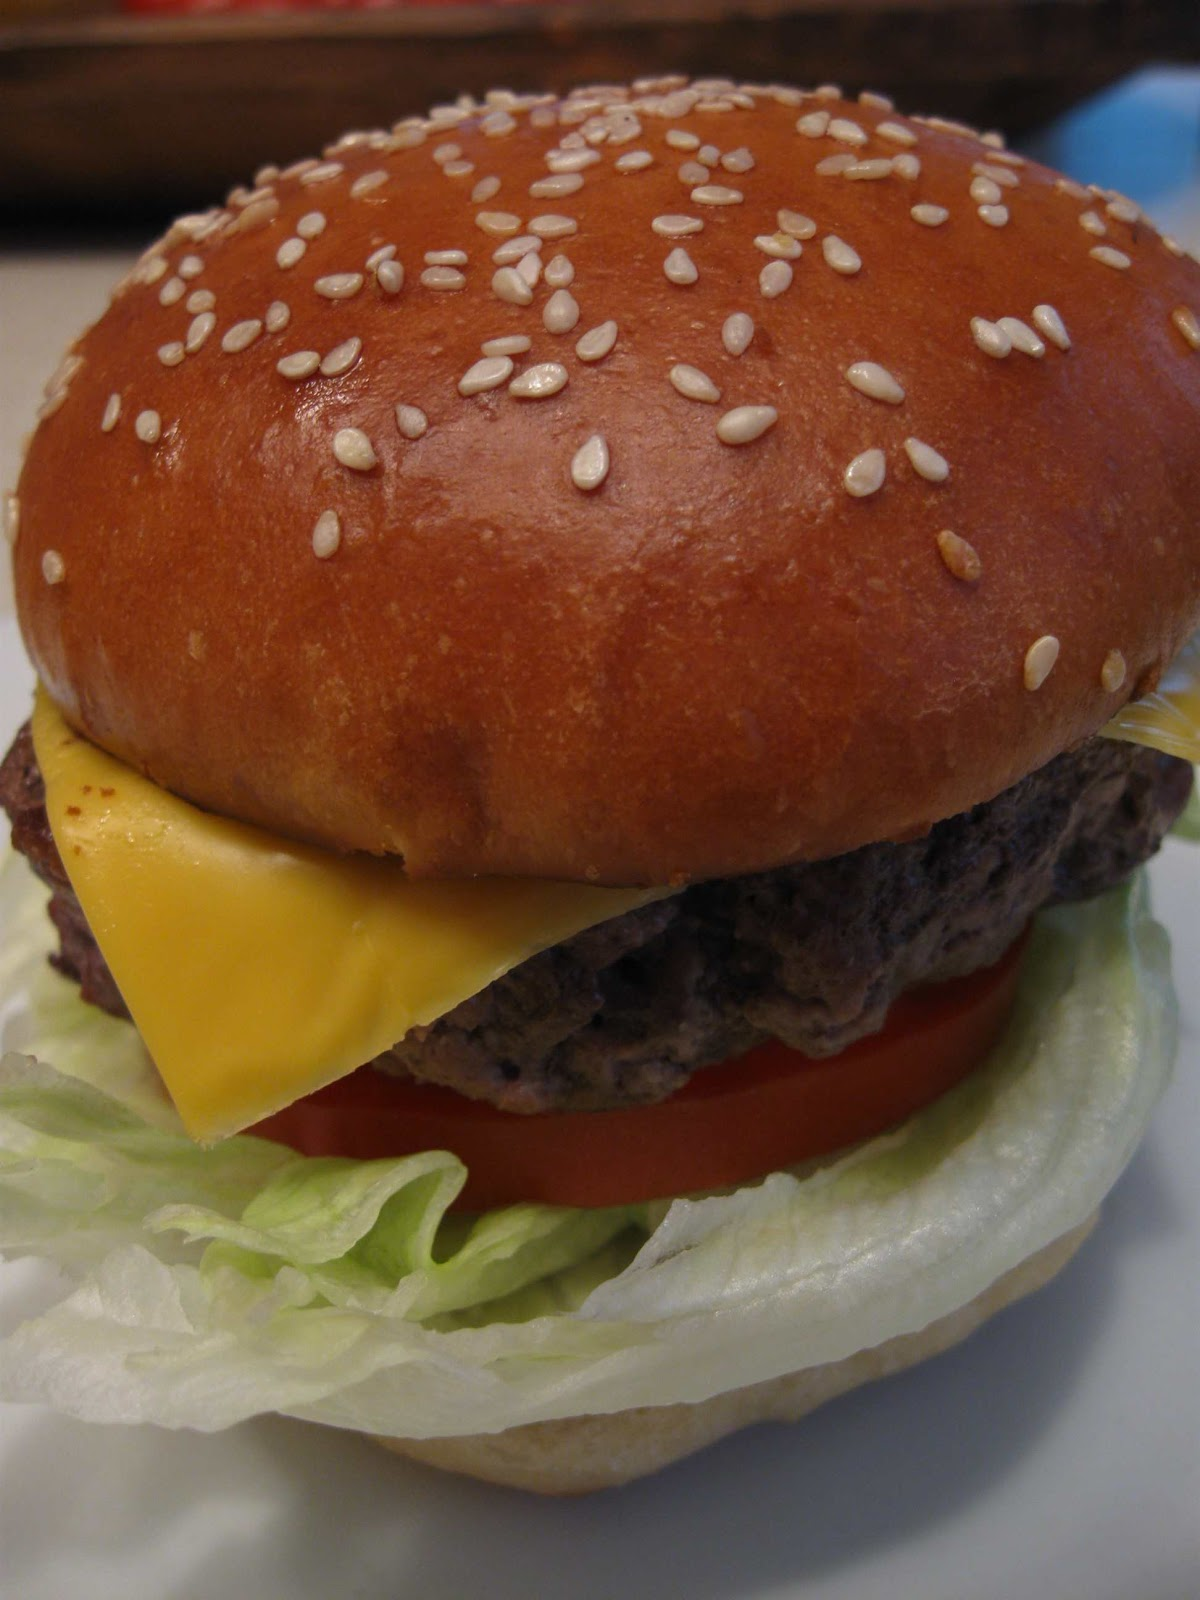hamburger_buns: (35, 71, 1200, 1504)
